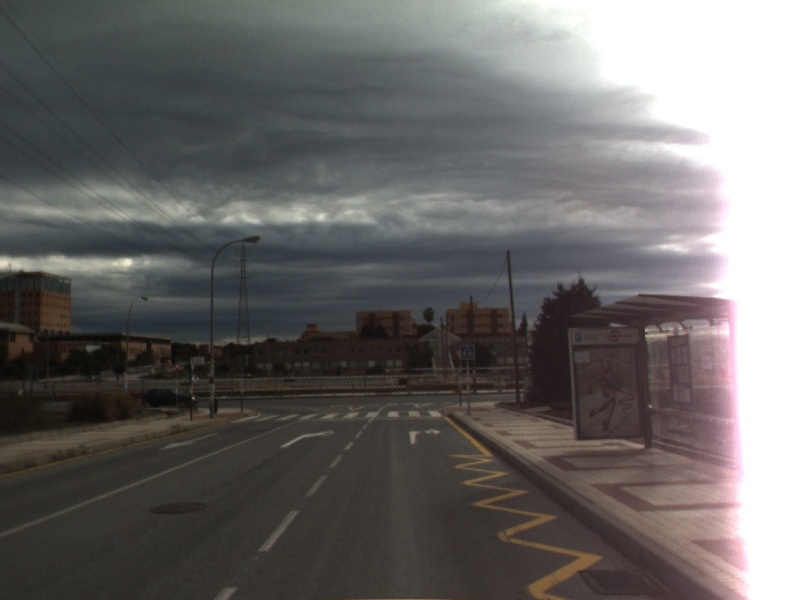RIGHT: (278, 427, 337, 450), (407, 426, 443, 446)
